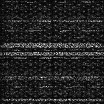lte: (1, 51, 104, 56), (1, 43, 104, 47), (1, 19, 104, 22), (1, 98, 104, 101)
